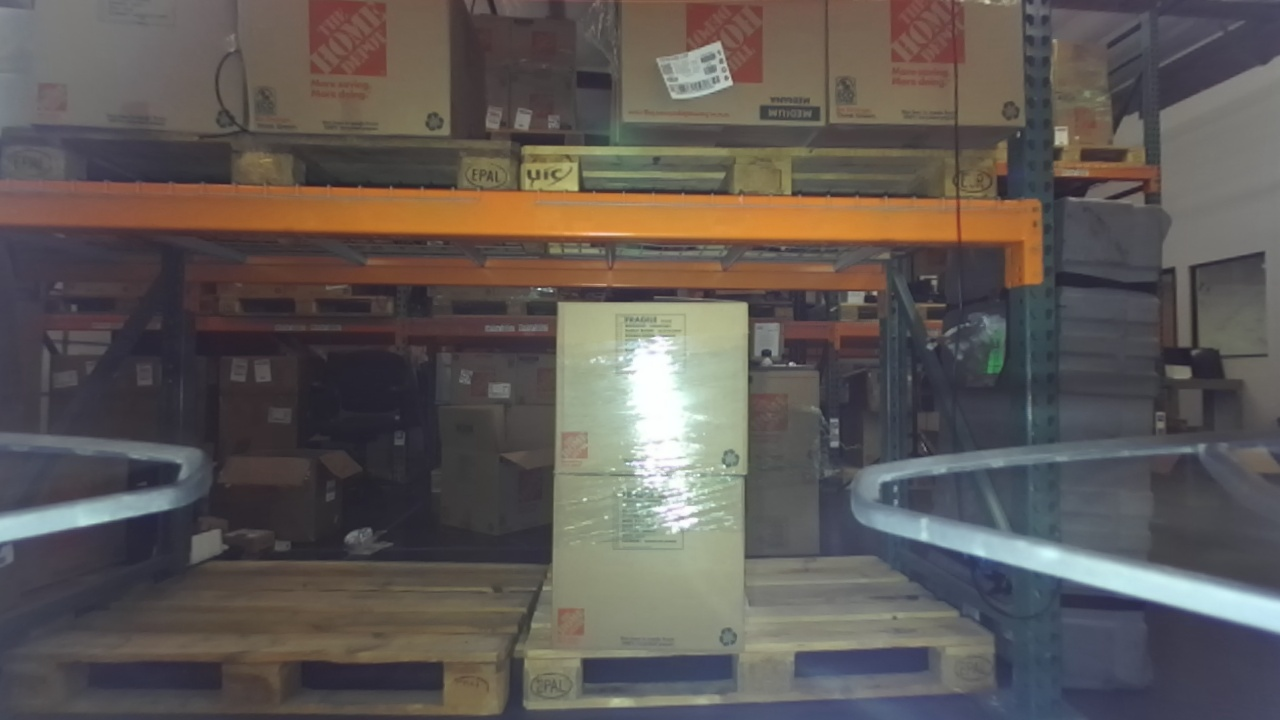box: (532, 454, 782, 663), (533, 292, 760, 486), (21, 3, 269, 160), (227, 1, 474, 158), (805, 1, 1039, 147), (604, 1, 832, 145)
